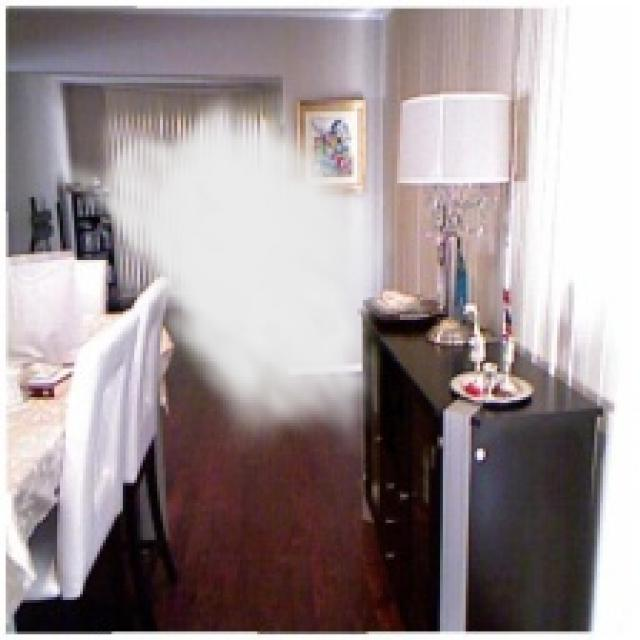smoke: (40, 86, 397, 457)
